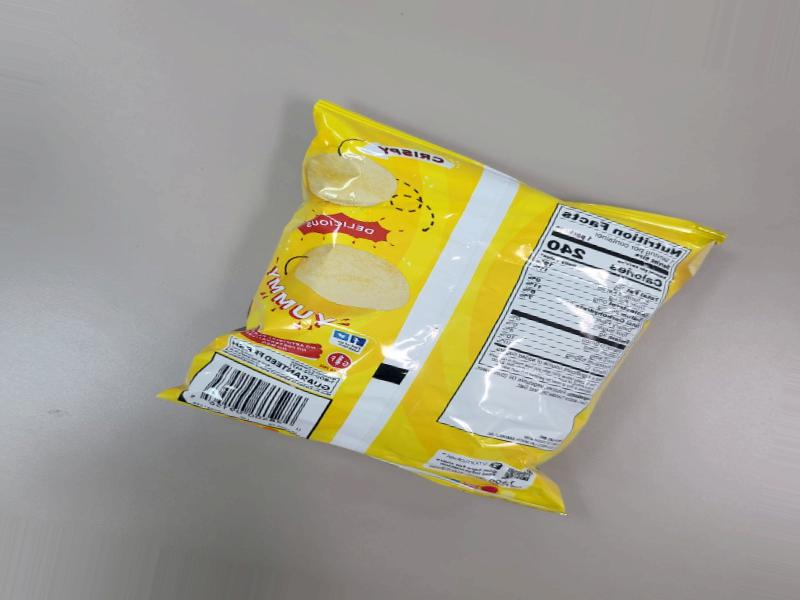lays: (266, 71, 769, 530)
